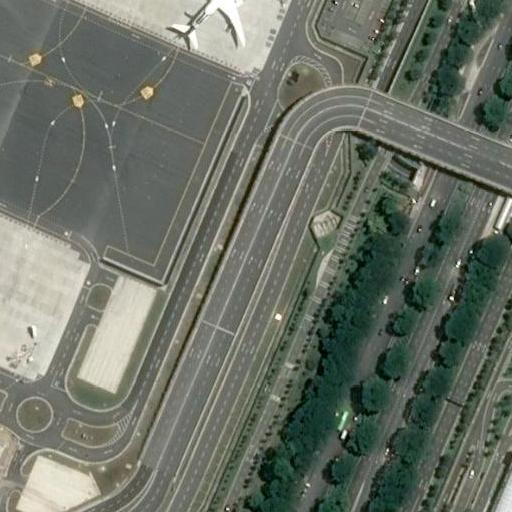Aircraft: (161, 0, 259, 51)
